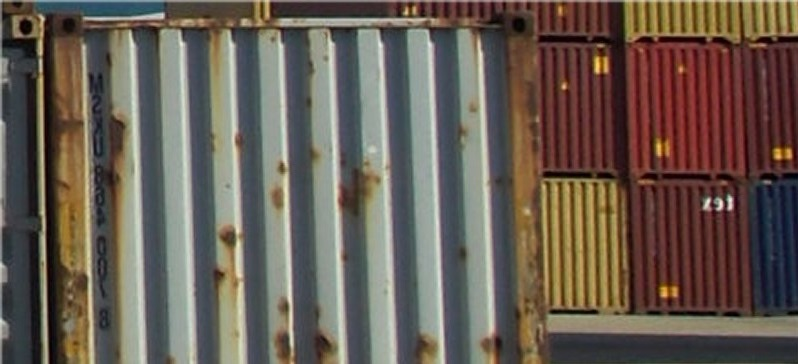container_no_door: (47, 11, 545, 364), (620, 38, 749, 177), (631, 181, 750, 320), (543, 43, 622, 176), (549, 180, 627, 312)
